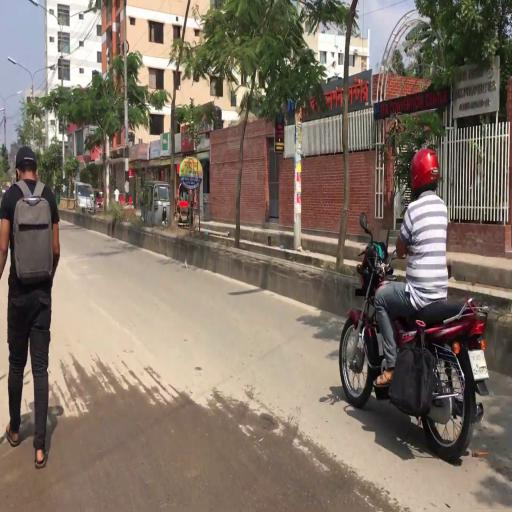motorbike: (335, 241, 487, 465)
rickshaw: (176, 180, 200, 231)
three wheelers (CNG): (142, 183, 172, 224)
van: (73, 183, 95, 213)
